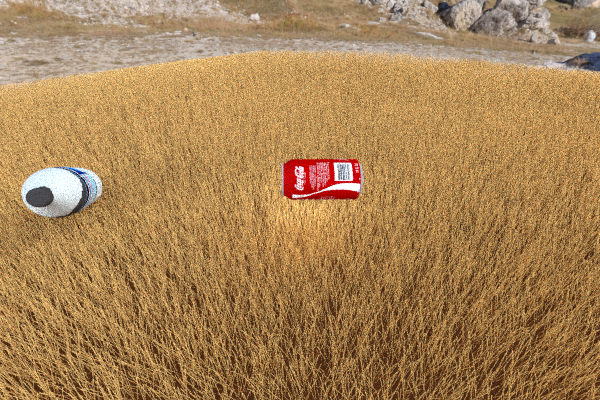bottle: (21, 166, 102, 217)
can: (281, 158, 363, 200), (299, 68, 332, 88)
